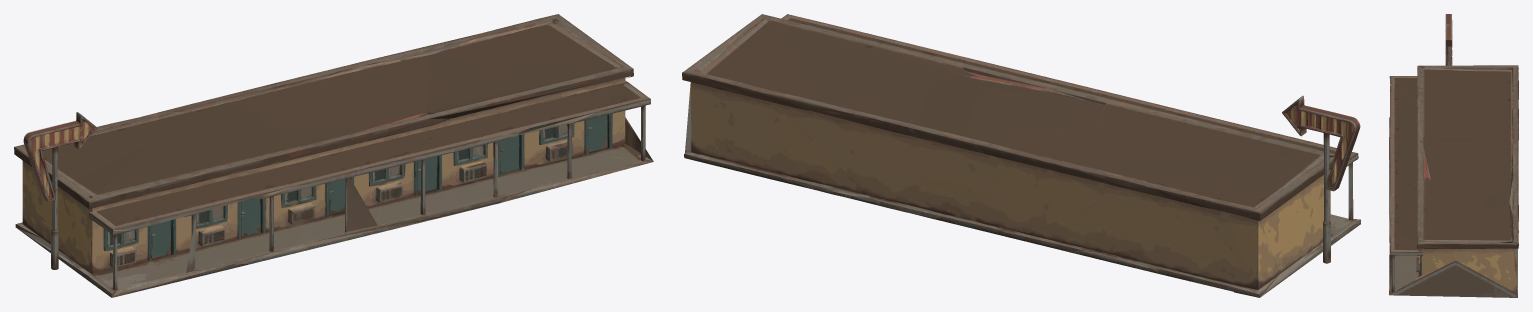
File: motel.glb
3 renders of one model, left to right at view 1: azimuth 30°, elevation 25°; view 2: azimuth 150°, elevation 25°; view 3: azimuth 270°, elevation 25°, orthographic. The views are drawn at different scales.
Visible parts, largest first — view 1: placed; view 2: placed; view 3: placed.
Boxes of the visible parts, left/top/right/bottom form: placed: left=14, top=14, right=653, bottom=297; placed: left=682, top=14, right=1360, bottom=297; placed: left=1389, top=14, right=1518, bottom=297.
Size of the model in its own units: 34 by 8.31 by 9.72.
1 material, 1 textured.
